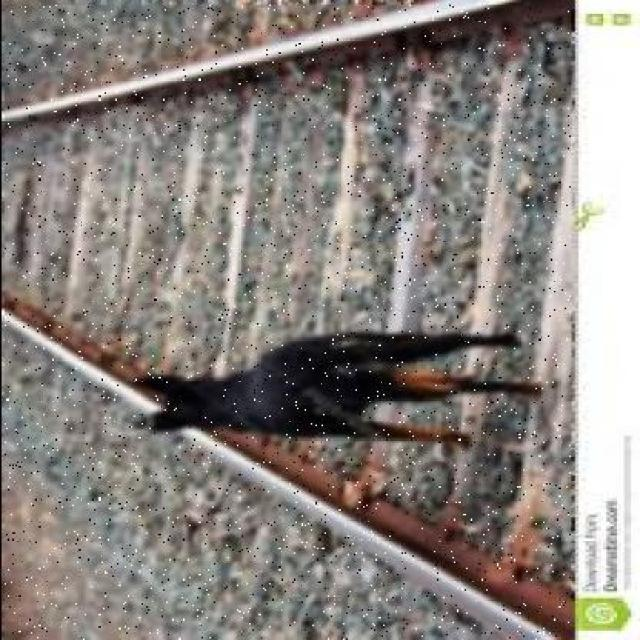danger: (123, 334, 548, 456)
rail: (3, 5, 569, 640)
